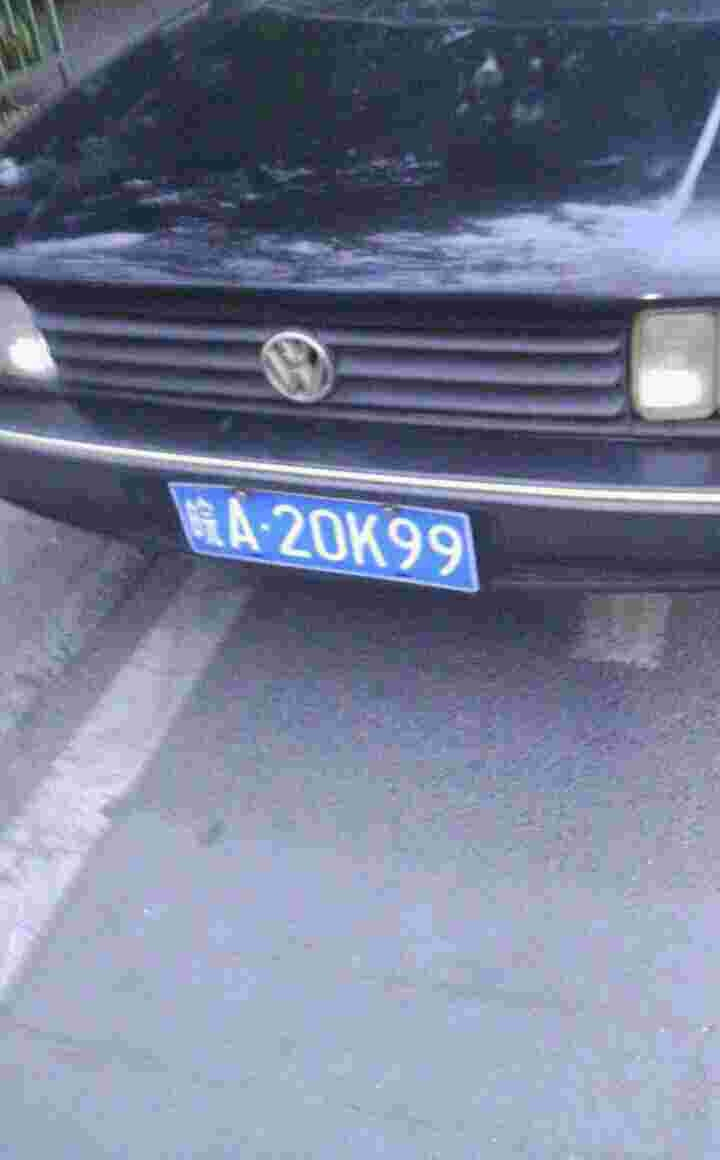license_plate: (172, 485, 477, 589)
